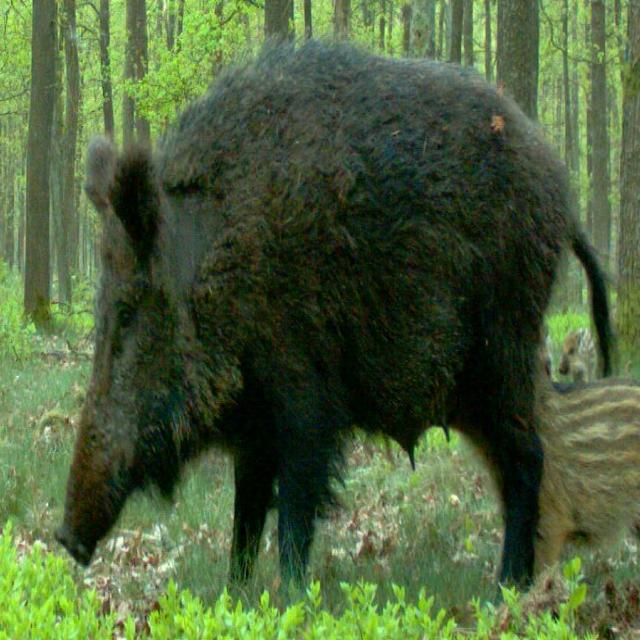pig: (62, 20, 593, 614)
